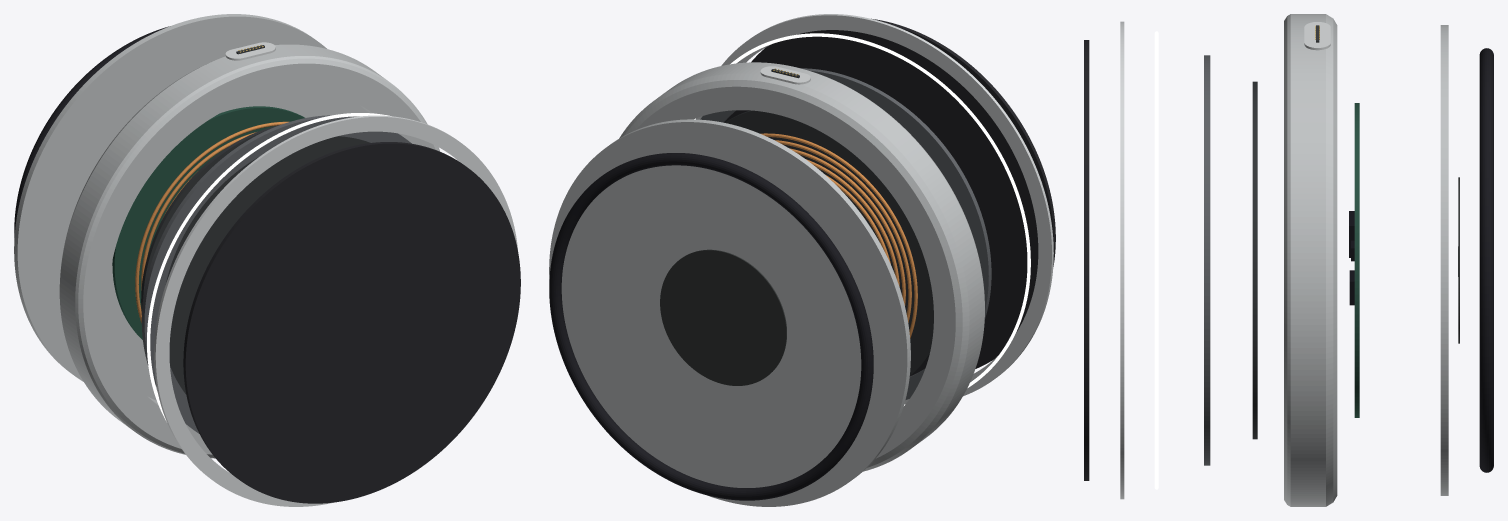
File: AETHR_CHARGE_EXPLODED.glb
3 views of the same model, side by side, from view 1: azimuth 30°, elevation 25°; view 2: azimuth 150°, elevation 25°; view 3: azimuth 270°, elevation 25° (orthographic). The views are drawn at different scales.
Visible parts, largest first — view 1: Top_Surface, Dock_Housing, Bottom_Plate, Top_Bezel, Control_Board, Ferrite_Shield, Magnetic_Ring, Charging_Coil, Status_Light_Ring, AntiSlip_Ring; view 2: Bottom_Plate, Dock_Housing, Top_Surface, Underside_Mark_Plate, AntiSlip_Ring, Top_Bezel, Ferrite_Shield, Magnetic_Ring, Charging_Coil, Status_Light_Ring; view 3: Dock_Housing, AntiSlip_Ring, Bottom_Plate, Magnetic_Ring, Top_Surface, Top_Bezel, Status_Light_Ring, Ferrite_Shield, Control_Board, USB_C_Bezel, Control_ICs.
Part boxes in pixels (x1,y1,x2,y2): Top_Surface: (183,142,520,503); Dock_Housing: (59,44,439,458); Bottom_Plate: (14,14,366,400); Top_Bezel: (154,115,517,506); Control_Board: (112,106,304,339); Ferrite_Shield: (141,124,370,394); Magnetic_Ring: (141,115,411,433); Charging_Coil: (135,121,289,322); Status_Light_Ring: (147,113,391,421); AntiSlip_Ring: (14,26,168,237); Bottom_Plate: (549,119,910,506); Dock_Housing: (619,62,984,471); Top_Surface: (724,18,1055,376); Underside_Mark_Plate: (660,249,786,385); AntiSlip_Ring: (549,153,873,500); Top_Bezel: (696,14,1053,404); Ferrite_Shield: (724,110,933,375); Magnetic_Ring: (700,68,991,399); Charging_Coil: (760,133,917,338); Status_Light_Ring: (694,33,1030,405); Dock_Housing: (1284,14,1337,506); AntiSlip_Ring: (1479,48,1493,472); Bottom_Plate: (1440,25,1448,495); Magnetic_Ring: (1204,55,1210,465); Top_Surface: (1084,40,1089,480); Top_Bezel: (1120,21,1124,499); Status_Light_Ring: (1154,31,1158,489); Ferrite_Shield: (1252,81,1257,439); Control_Board: (1354,103,1359,417); USB_C_Bezel: (1304,22,1330,50); Control_ICs: (1349,211,1354,305).
Bounding box in the file's own units: 0.086 × 0.0869 × 0.0715.
